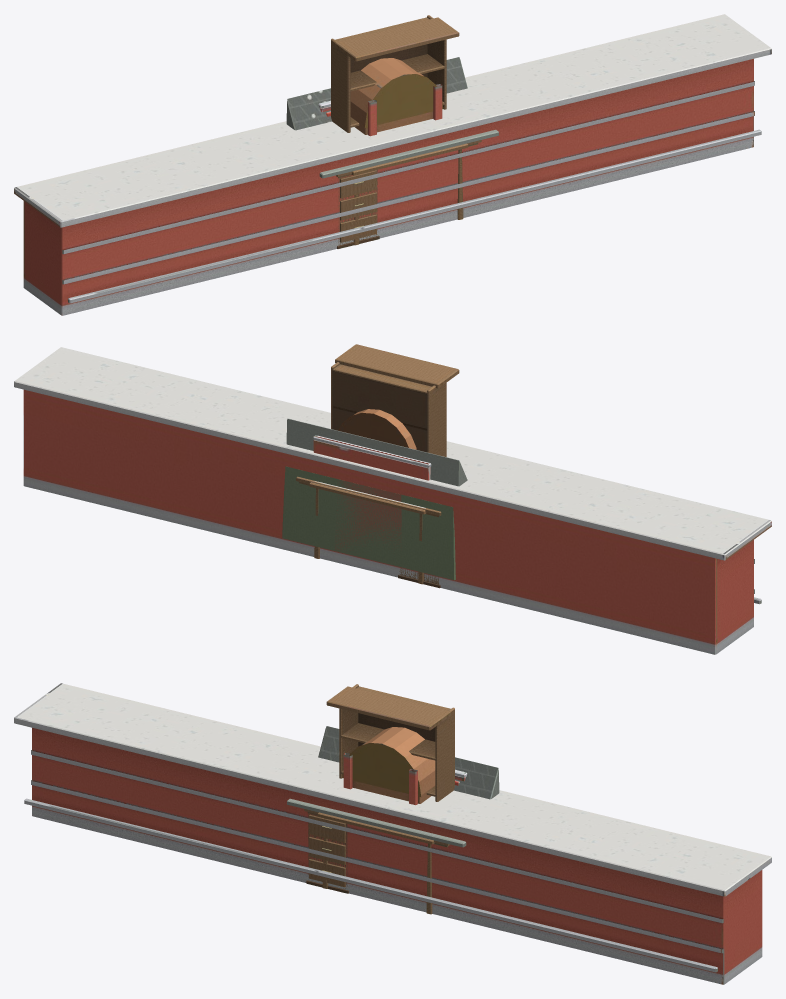
File: furniture.glb
The picture shows the model from 3 angles, top to bottom: view 1: azimuth 30°, elevation 25°; view 2: azimuth 150°, elevation 25°; view 3: azimuth 330°, elevation 25°; orthographic projection.
Parts seen in each view (by area): view 1: counter, shelf, jukebox, console, desk, table; view 2: counter, sofa, shelf, console, armchair, booth, jukebox, table, desk; view 3: counter, shelf, jukebox, console, desk, table.
Part boxes in pixels (x1,y1,x2,y2): counter: [14, 14, 771, 315]; shelf: [331, 15, 459, 132]; jukebox: [350, 58, 443, 136]; console: [286, 57, 498, 178]; desk: [336, 140, 481, 248]; table: [351, 143, 468, 245]; counter: [14, 347, 771, 654]; sofa: [282, 466, 455, 580]; shelf: [331, 344, 459, 456]; console: [286, 418, 467, 486]; armchair: [335, 480, 401, 551]; booth: [313, 435, 431, 480]; jukebox: [338, 409, 416, 449]; table: [309, 482, 425, 584]; desk: [296, 476, 441, 588]; counter: [14, 683, 771, 984]; shelf: [326, 684, 454, 801]; jukebox: [342, 727, 435, 805]; console: [287, 726, 499, 847]; desk: [304, 809, 449, 893]; table: [317, 812, 434, 914].
Bounding box in the file's own units: 7.4 × 1.86 × 0.9.
2 materials, 2 textured.
